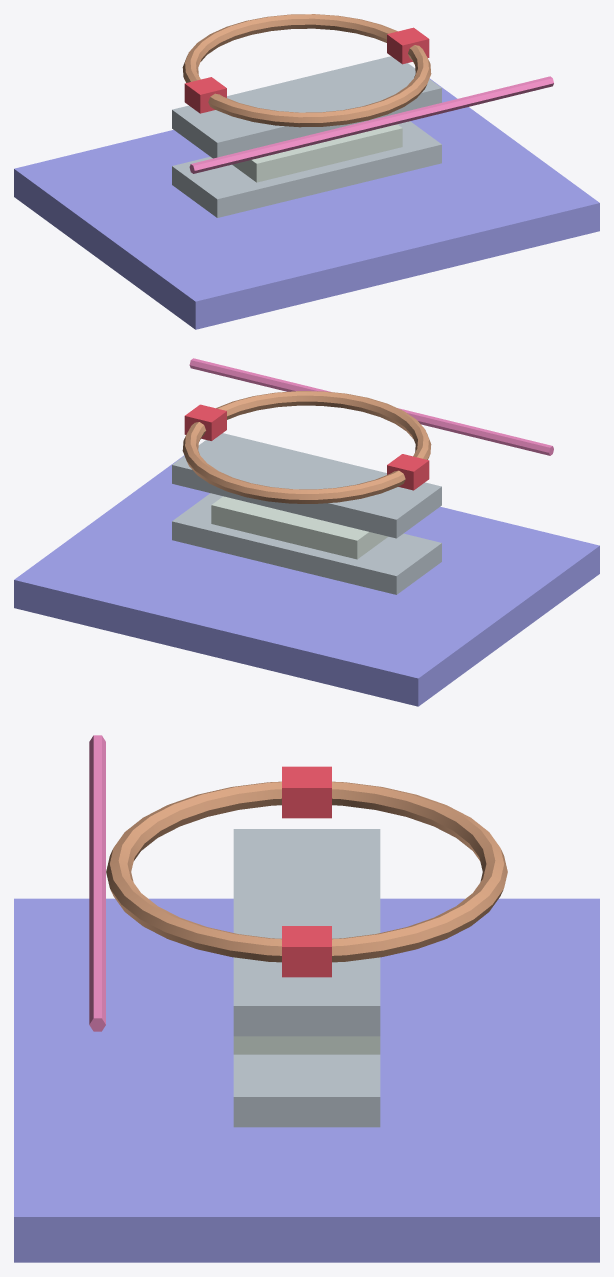
File: josephson_junction.glb
The picture shows the model from 3 angles, top to bottom: view 1: azimuth 30°, elevation 25°; view 2: azimuth 150°, elevation 25°; view 3: azimuth 270°, elevation 25°; orthographic projection. The views are drawn at different scales.
Parts seen in each view (by area): view 1: substrate-patch, electrode-top, squid-loop, electrode-bottom, flux-bias-line, oxide-barrier; view 2: substrate-patch, electrode-top, squid-loop, electrode-bottom, oxide-barrier, flux-bias-line; view 3: substrate-patch, electrode-top, squid-loop, electrode-bottom, flux-bias-line, oxide-barrier.
Part boxes in pixels (box(x1,y1,x2,y2)): substrate-patch: box(14, 78, 599, 329); electrode-top: box(172, 56, 441, 158); squid-loop: box(182, 14, 431, 127); electrode-bottom: box(172, 121, 441, 217); flux-bias-line: box(189, 76, 553, 173); oxide-barrier: box(232, 124, 402, 182); substrate-patch: box(14, 455, 599, 706); electrode-top: box(172, 433, 441, 538); squid-loop: box(182, 391, 431, 503); electrode-bottom: box(172, 493, 441, 594); oxide-barrier: box(211, 496, 387, 559); flux-bias-line: box(189, 358, 553, 455); substrate-patch: box(14, 898, 599, 1262); electrode-top: box(233, 829, 380, 1036); squid-loop: box(106, 766, 507, 977); electrode-bottom: box(233, 1054, 380, 1127); flux-bias-line: box(89, 735, 105, 1031); oxide-barrier: box(233, 1036, 380, 1054).
Size of the model in its own units: 0.18 by 0.065 by 0.14.
